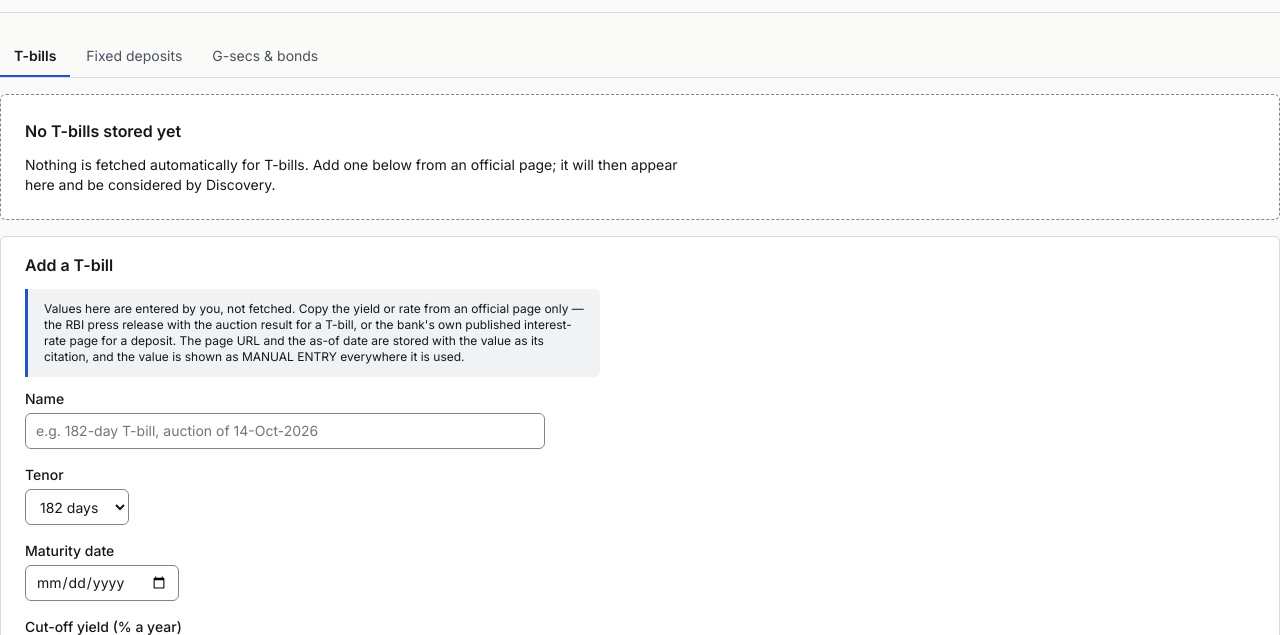
Test: G-sec / SDL form › refuses to submit without the required fields and the citation
The width and height of the screenshot is (1280, 635).
Click the tab "G-secs & bonds". click: (265, 57)
box: [198, 37, 332, 77]
(page scrolled)
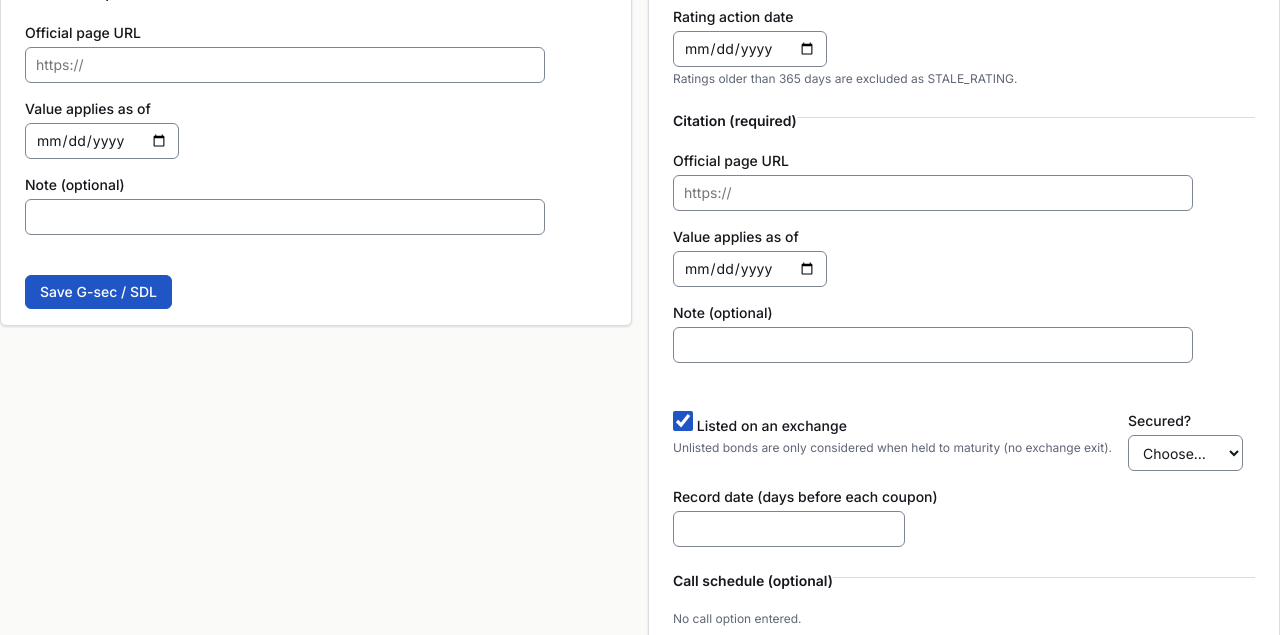
Click the button "Save G-sec / SDL". click: (98, 292)
box: [25, 275, 172, 309]
(page scrolled)
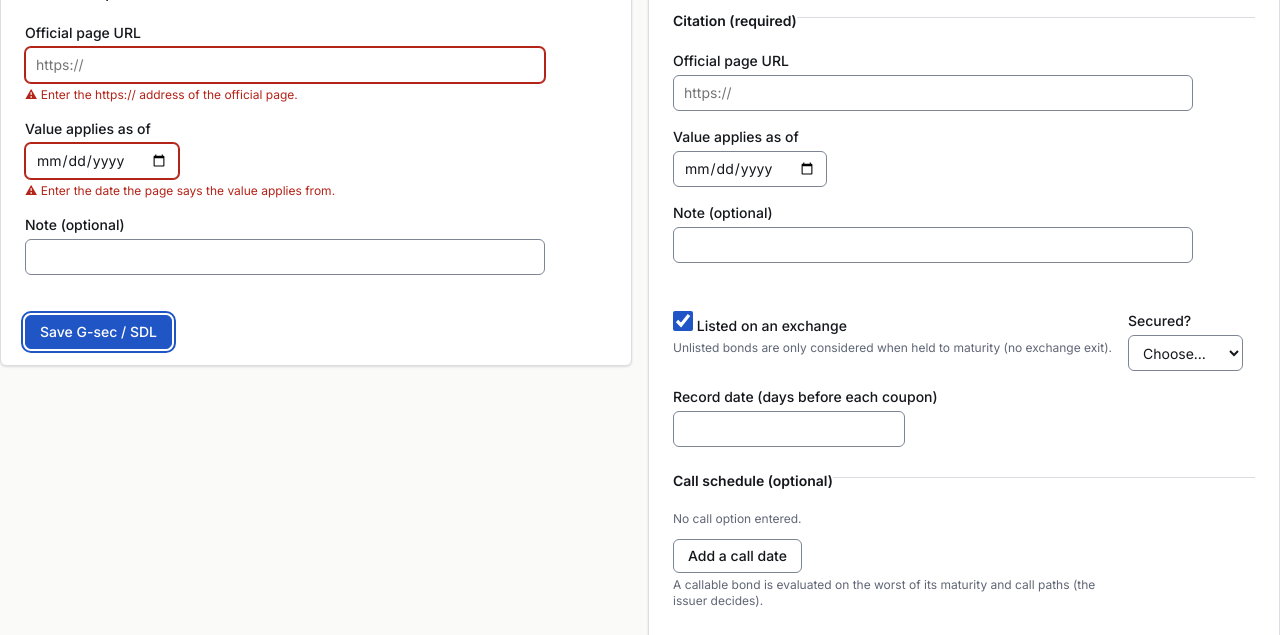
Result: the text "Enter the https:// address of the official page." is shown at [41, 87, 298, 102]
